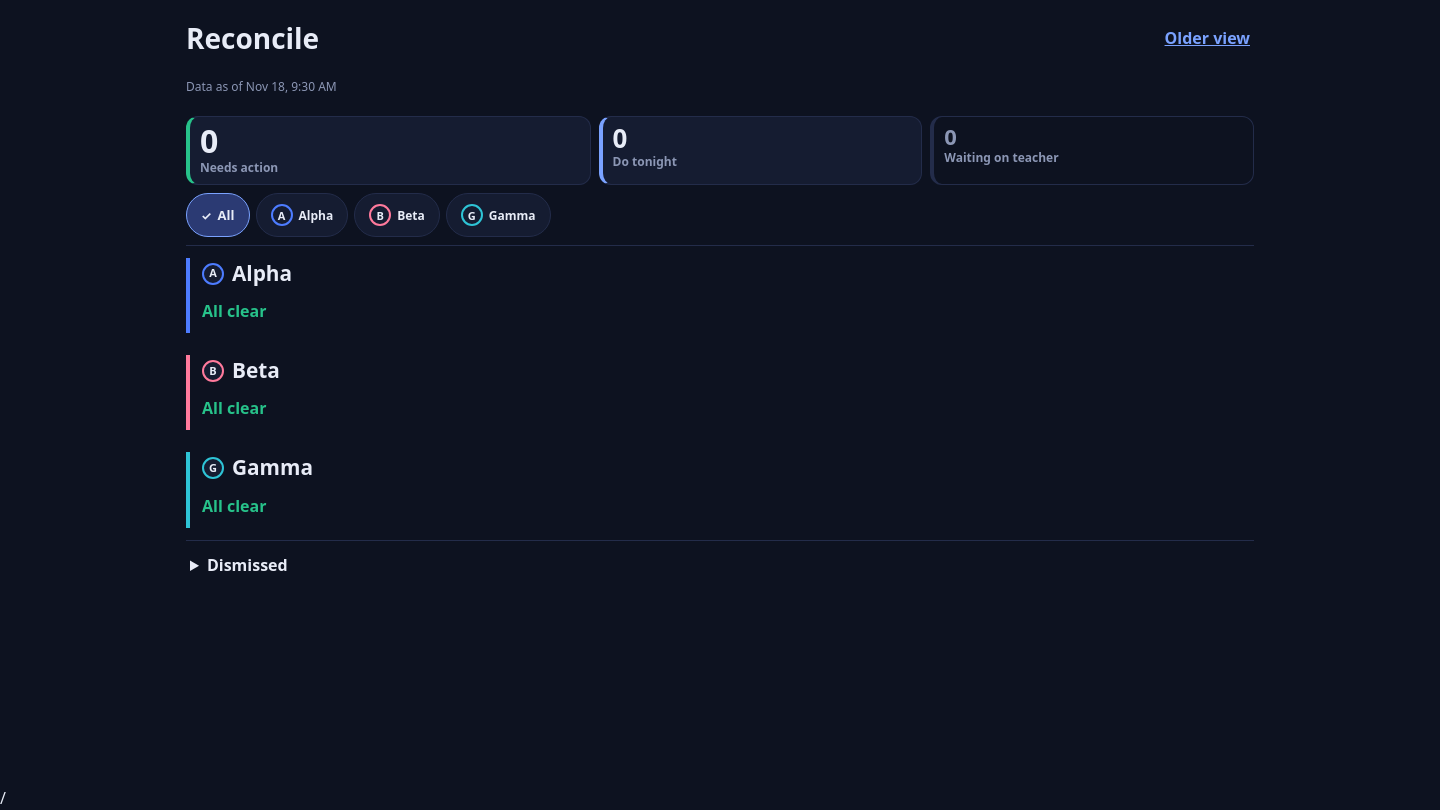
dismissed assignments stay restorable after a fresh load and retain their history
This screenshot has width=1440, height=810.
Expected: the heading "Alpha" is shown, [232,258,292,289]
Expected: the element "Old worksheet" is not shown
Click the heading "Dismissed" at (247, 565), box [207,554,288,576]
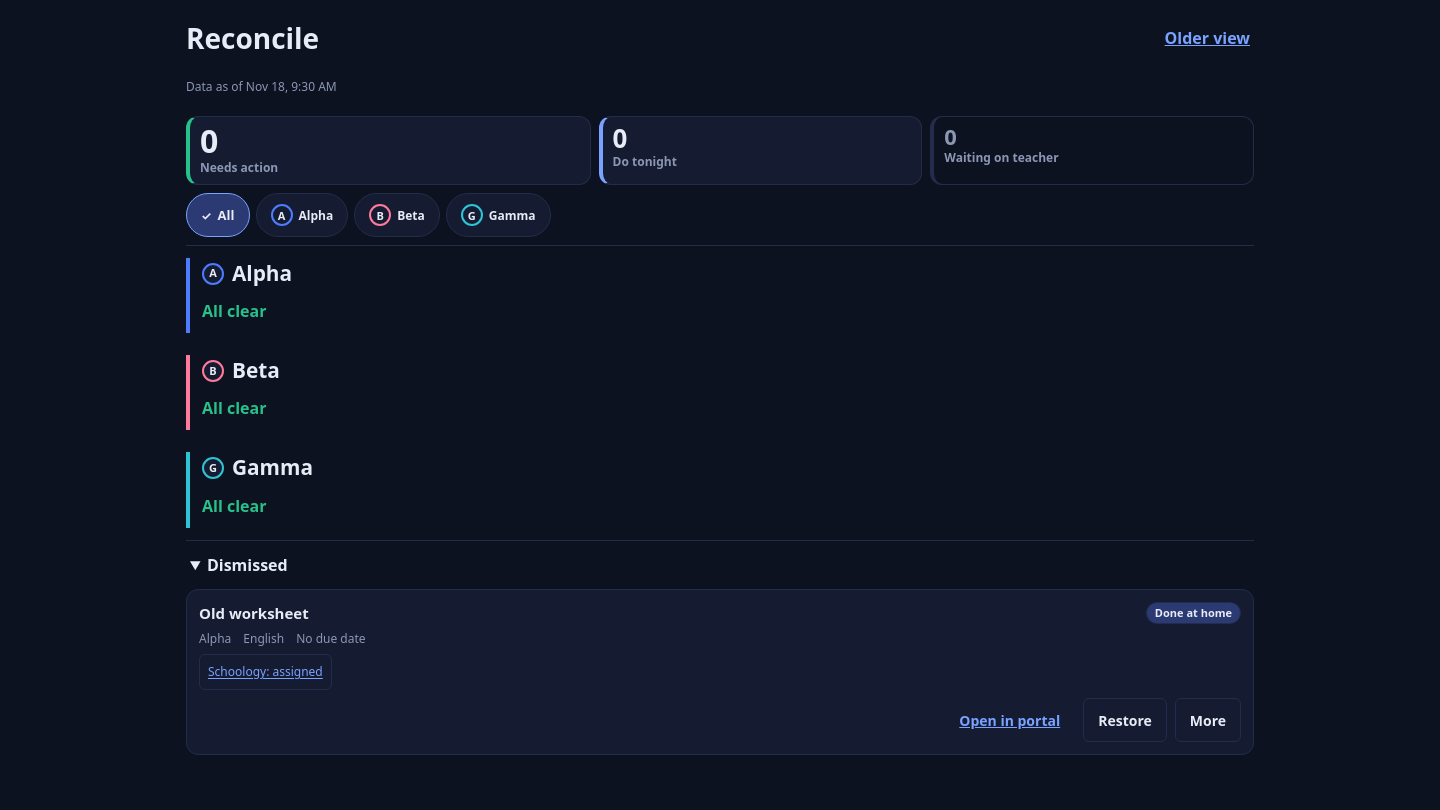
Result: the text "Done at home" is shown at [1146,602,1241,624]
Click the button with aria-label "More for Old worksheet" at (1208, 720), box [1175,698,1241,742]
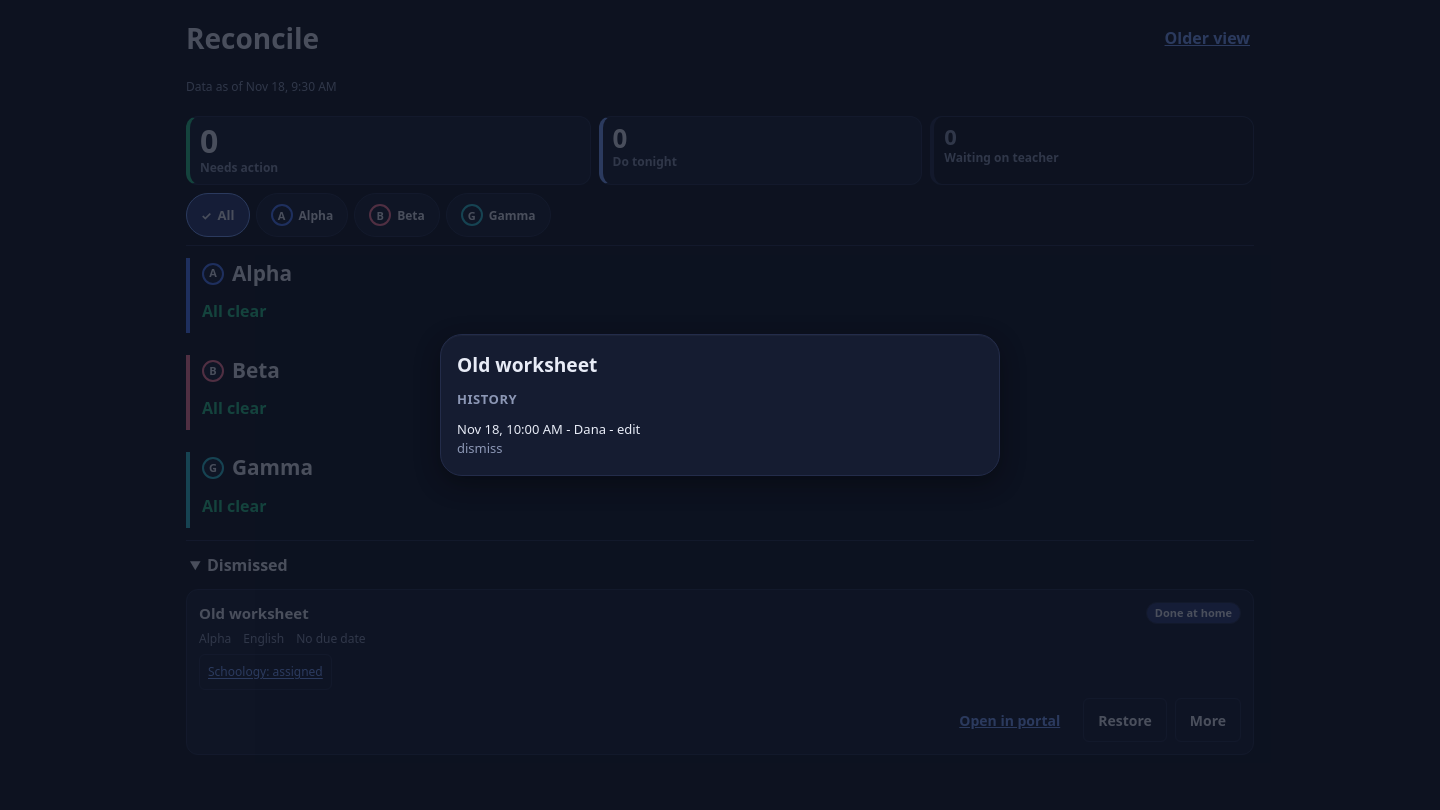
Result: the text "dismiss" is shown at [457,439,502,457]
Press Escape in the dialog, box [440,334,1000,476]
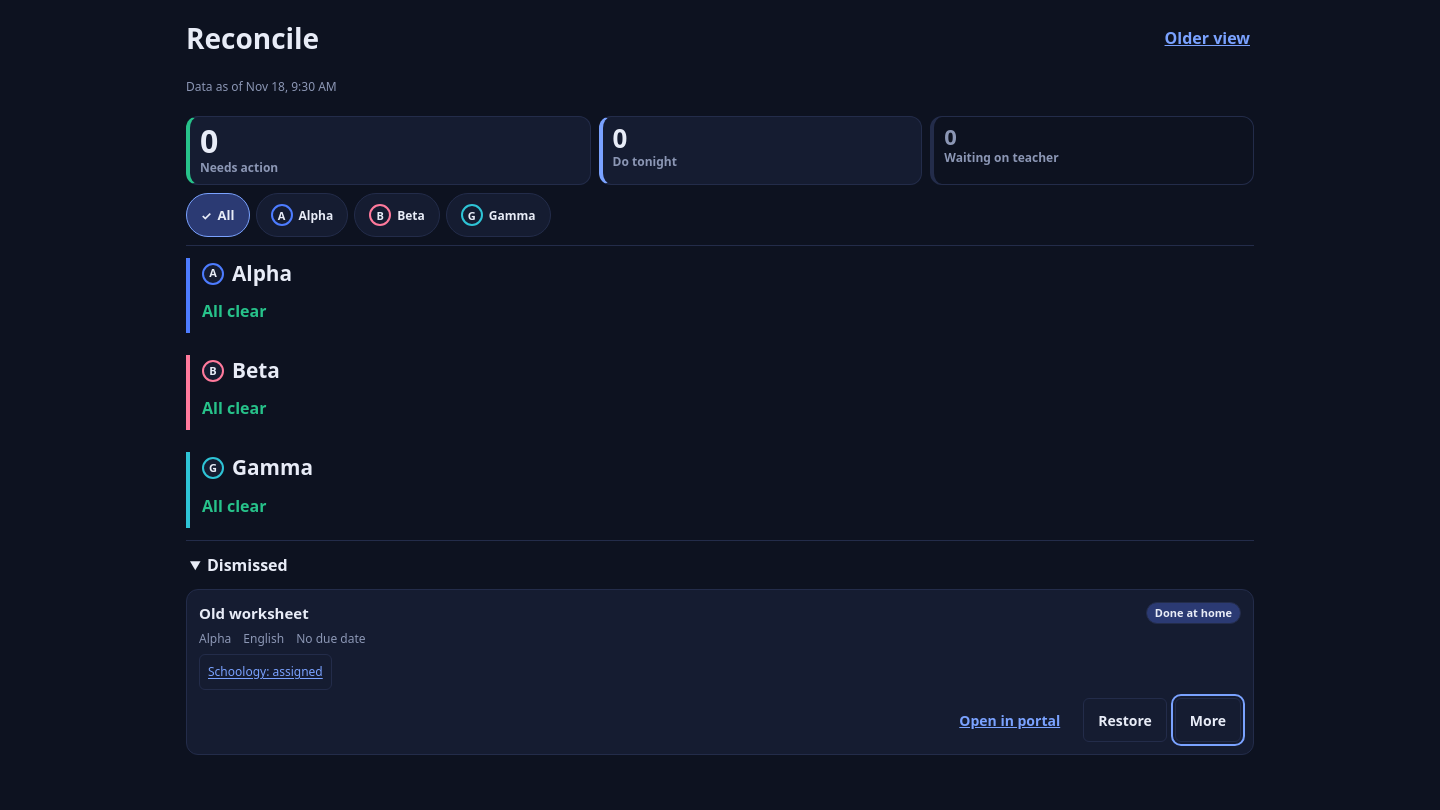
Click the button with aria-label "Restore Old worksheet" at (1125, 720), box [1083,698,1167,742]
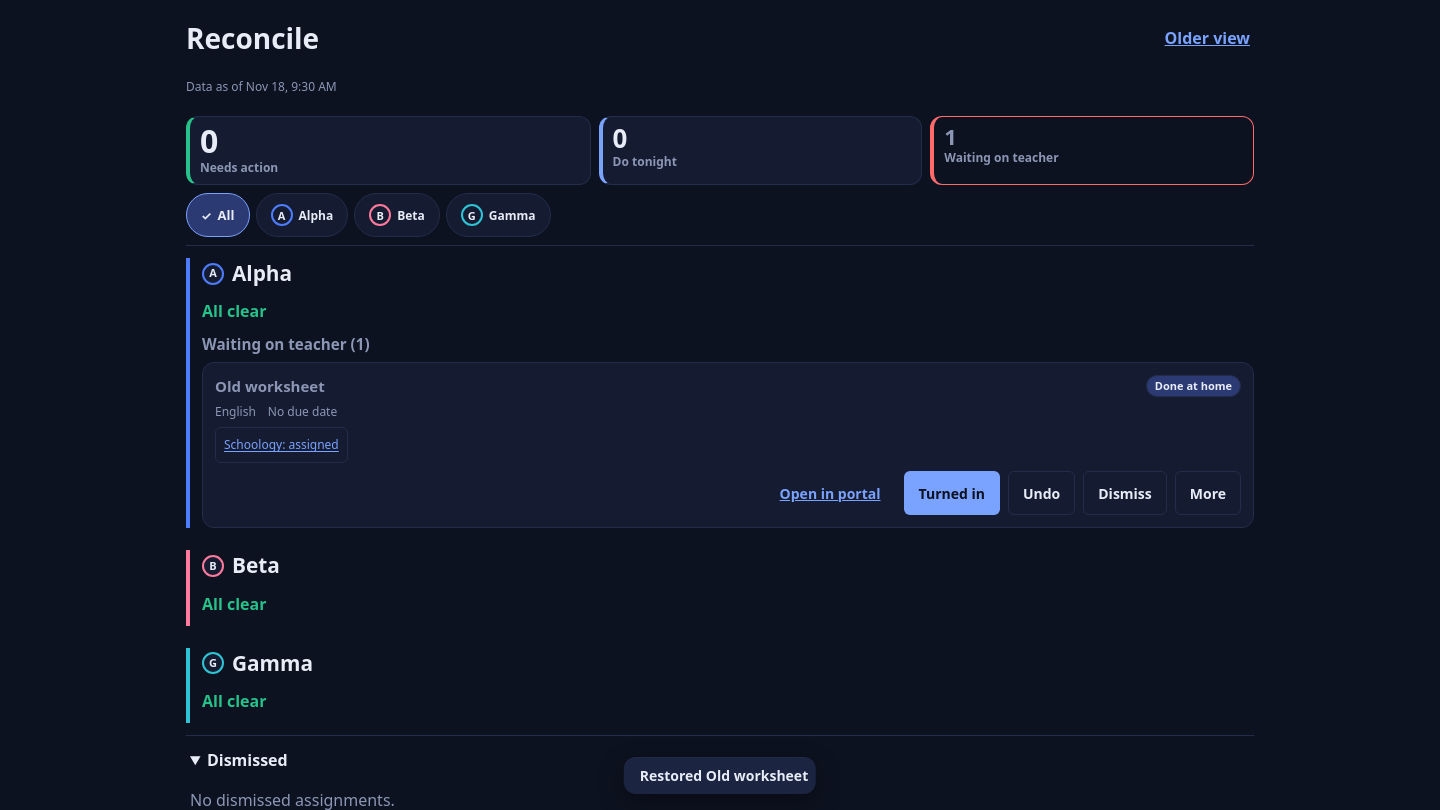
Result: the text "Done at home" is shown at [1146,375,1241,398]
Result: the text "Restored Old worksheet" is shown at [640,765,808,786]
Result: the text "No dismissed assignments." is shown at [190,789,395,809]
